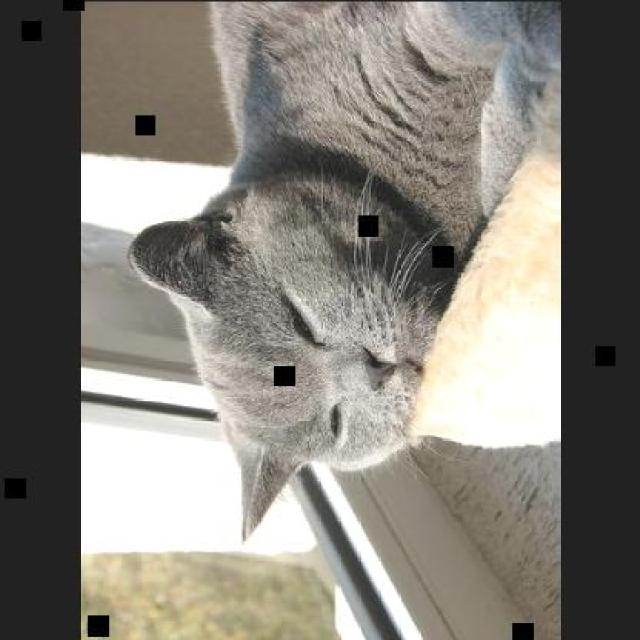unauthorized: (126, 0, 560, 542)
